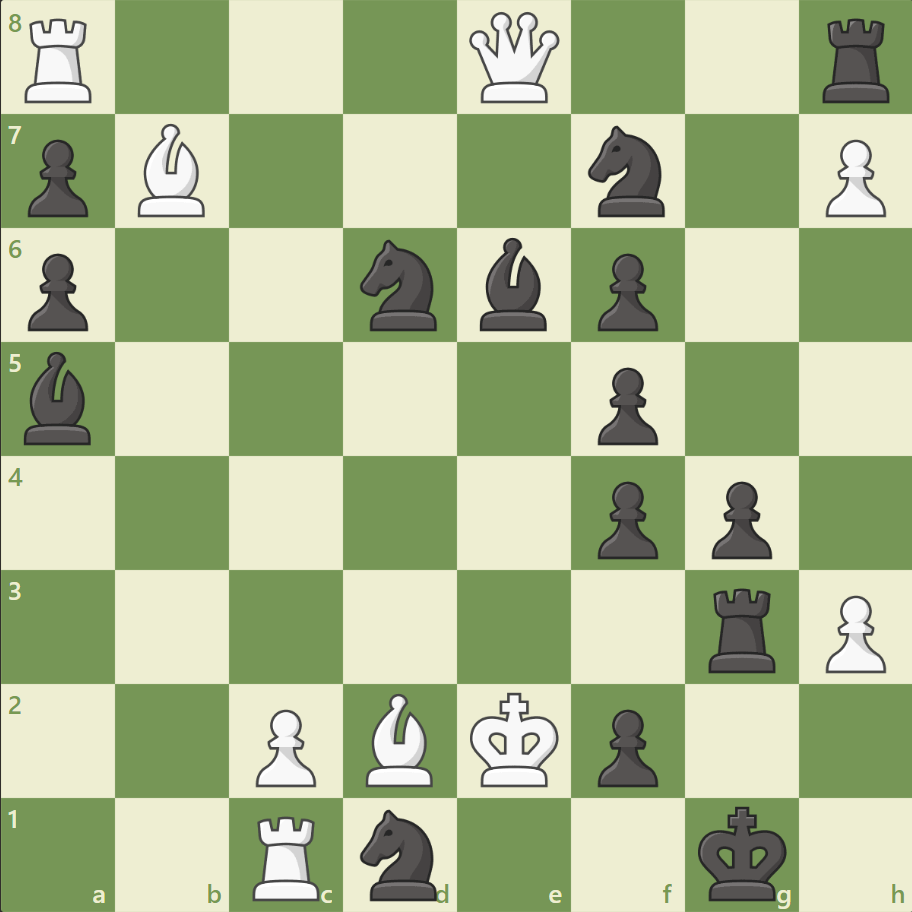B: (358, 687, 442, 790), (131, 120, 215, 222)
K: (465, 685, 565, 793)
P: (247, 700, 322, 791), (815, 132, 889, 223), (815, 586, 889, 677)
Q: (464, 9, 563, 108)
R: (246, 806, 329, 904), (19, 12, 102, 109)
b: (471, 233, 555, 336), (17, 347, 101, 449)
k: (692, 798, 792, 906)
n: (351, 234, 449, 337), (351, 802, 449, 904), (579, 121, 676, 223)
p: (20, 132, 95, 223), (20, 246, 95, 337), (701, 473, 776, 564), (588, 246, 662, 337), (588, 359, 662, 450), (588, 473, 662, 564), (588, 700, 662, 791)
r: (814, 12, 897, 109), (700, 579, 783, 676)
